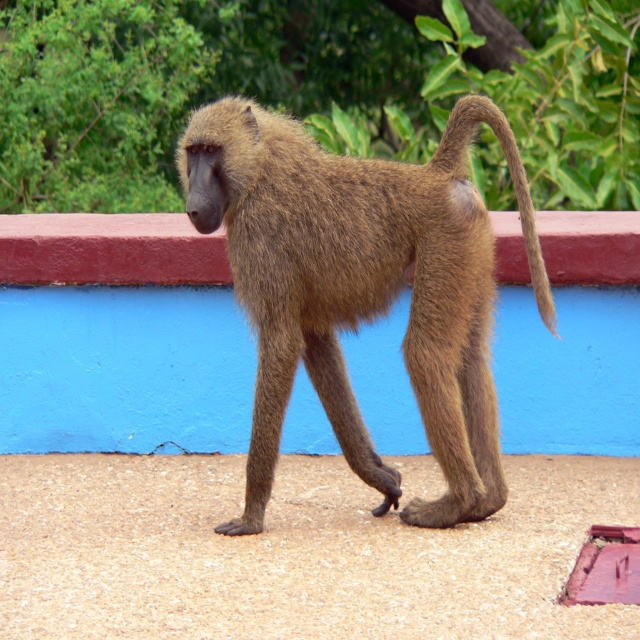Monkey: (176, 97, 560, 537)
